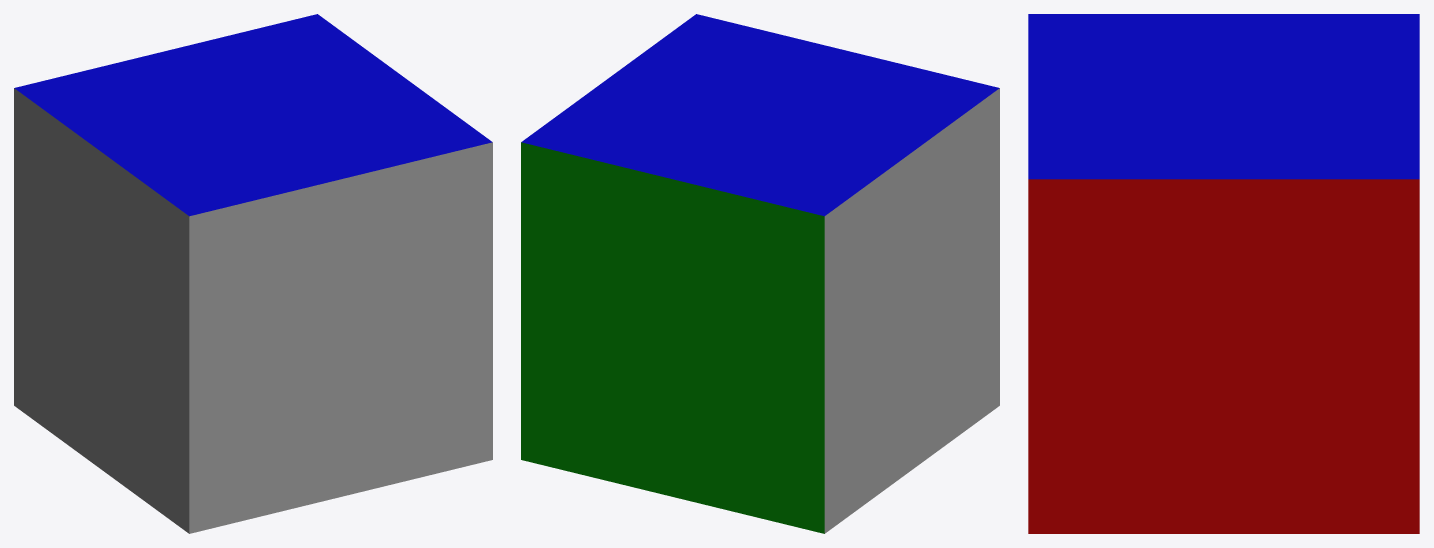
The picture shows the model from 3 angles, left to right: view 1: azimuth 30°, elevation 25°; view 2: azimuth 150°, elevation 25°; view 3: azimuth 270°, elevation 25°; orthographic projection. The views are drawn at different scales.
Parts seen in each view (by area): view 1: Room_Cube.001; view 2: Room_Cube.001; view 3: Room_Cube.001.
Boxes of the visible parts, x1=… form: Room_Cube.001: x1=14, y1=14, x2=492, y2=533; Room_Cube.001: x1=521, y1=14, x2=999, y2=533; Room_Cube.001: x1=1028, y1=14, x2=1419, y2=533.
Size of the model in its own units: 4 by 4 by 4.
